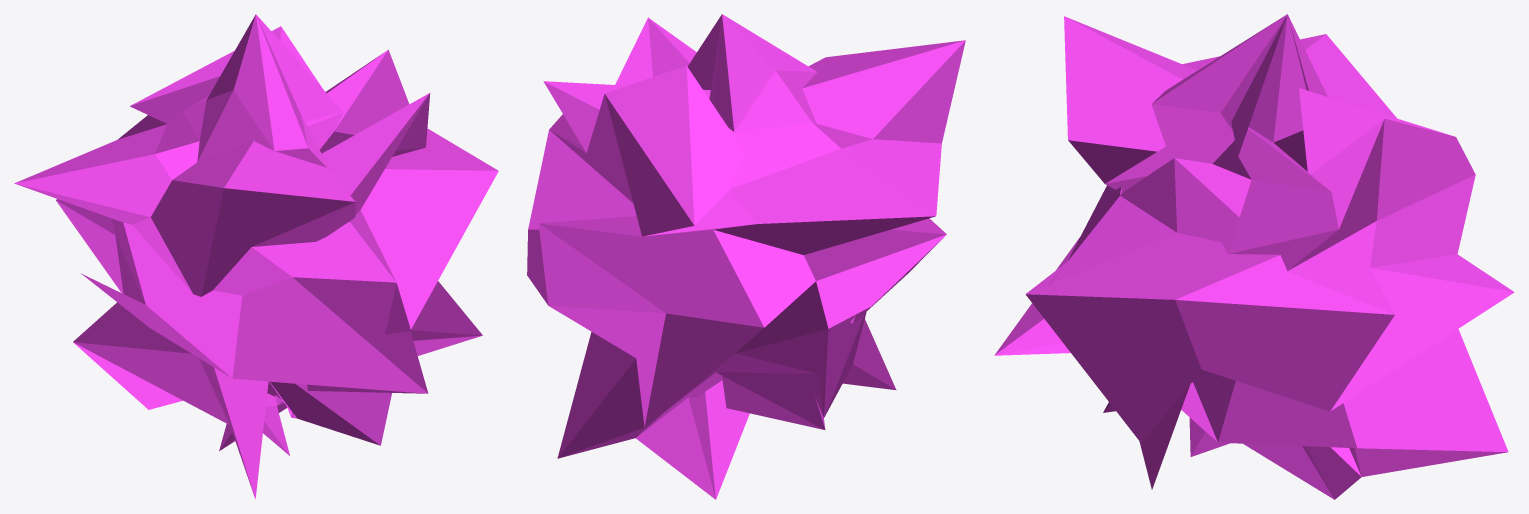
The model's file is crystalmoon.glb.
3 renders of one model, left to right at view 1: azimuth 30°, elevation 25°; view 2: azimuth 150°, elevation 25°; view 3: azimuth 270°, elevation 25°, orthographic. The views are drawn at different scales.
Visible parts, largest first — view 1: Sphere; view 2: Sphere; view 3: Sphere.
Part boxes in pixels (box(x1,y1,x2,y2)): Sphere: box(14, 14, 498, 499); Sphere: box(527, 14, 965, 499); Sphere: box(994, 14, 1514, 499).
Bounding box in the file's own units: 54.32 × 56.06 × 53.52.
